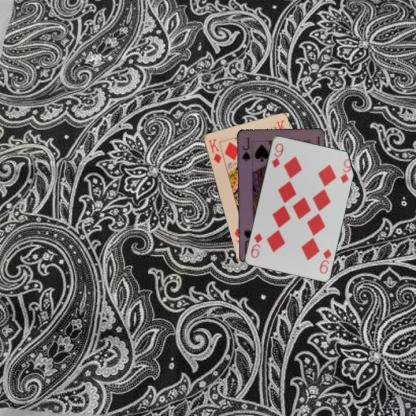9d: (269, 140, 285, 169), (316, 246, 332, 275)
Js: (240, 134, 251, 162)
Kd: (206, 136, 222, 164)
